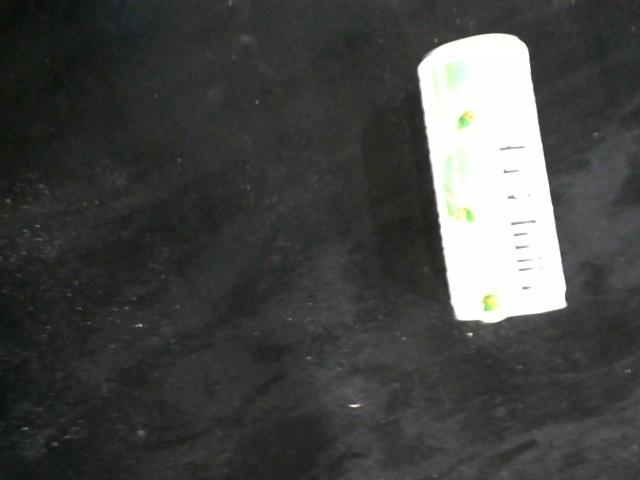can: (415, 31, 574, 326)
